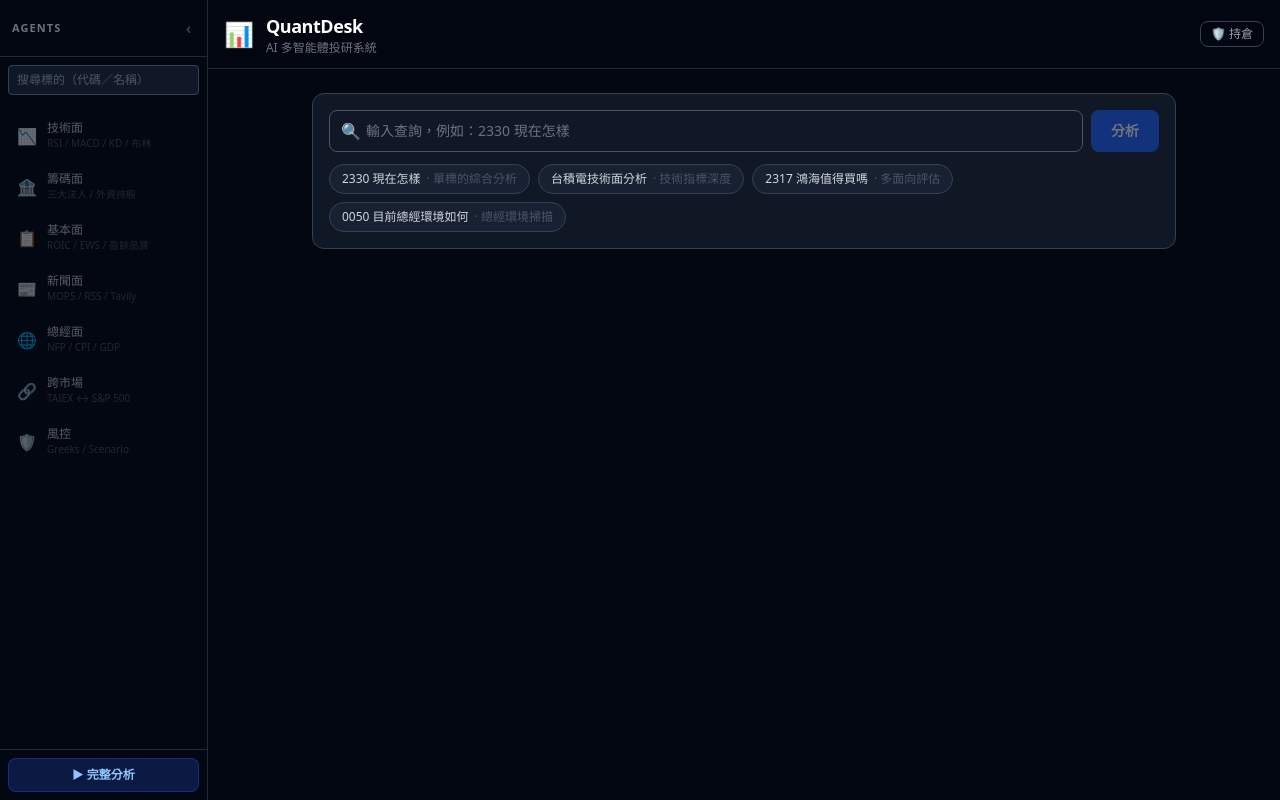
Test: 範例查詢 › 點擊範例可直接帶入輸入框
Click the text "2330 現在怎樣" at (381, 179), box x1=342 y1=171 x2=421 y2=187
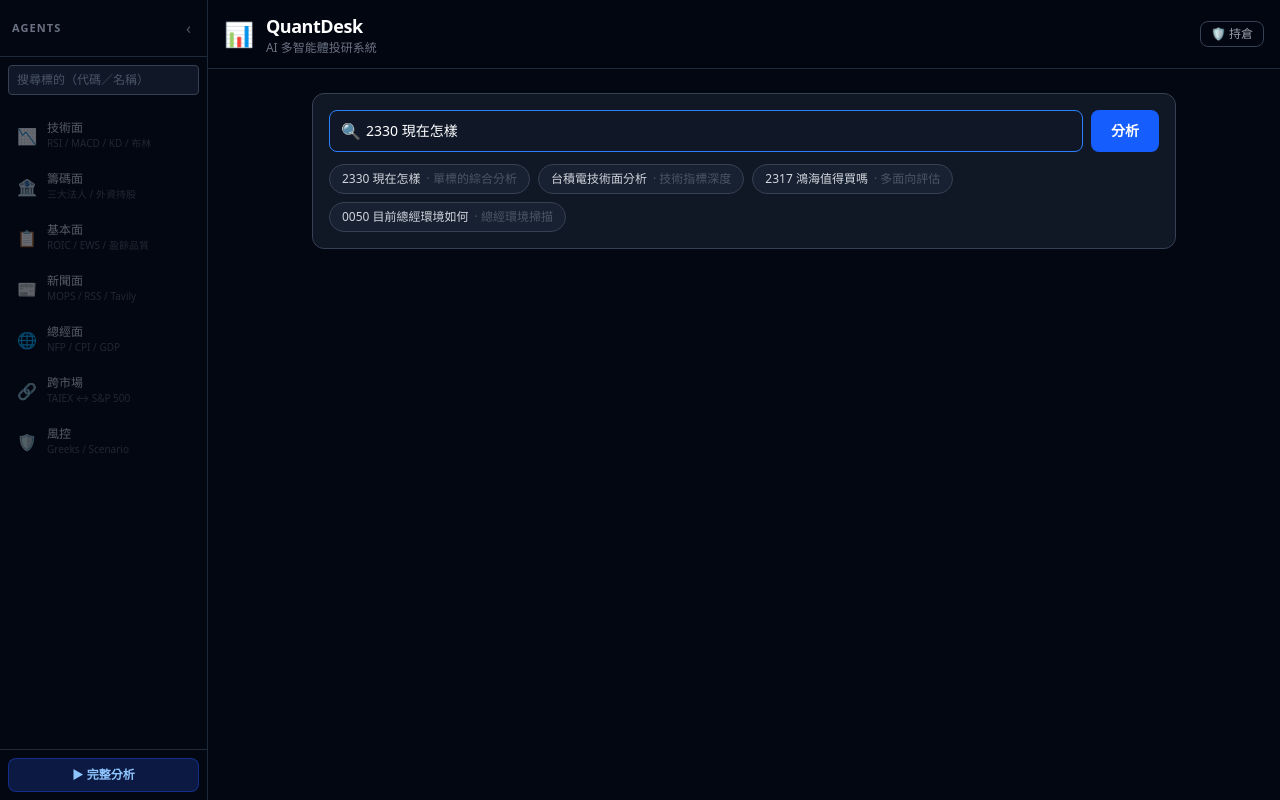
Expected: the field with placeholder "輸入查詢，例如：2330 現在怎樣" holds "2330 現在怎樣", x1=329 y1=110 x2=1083 y2=152
